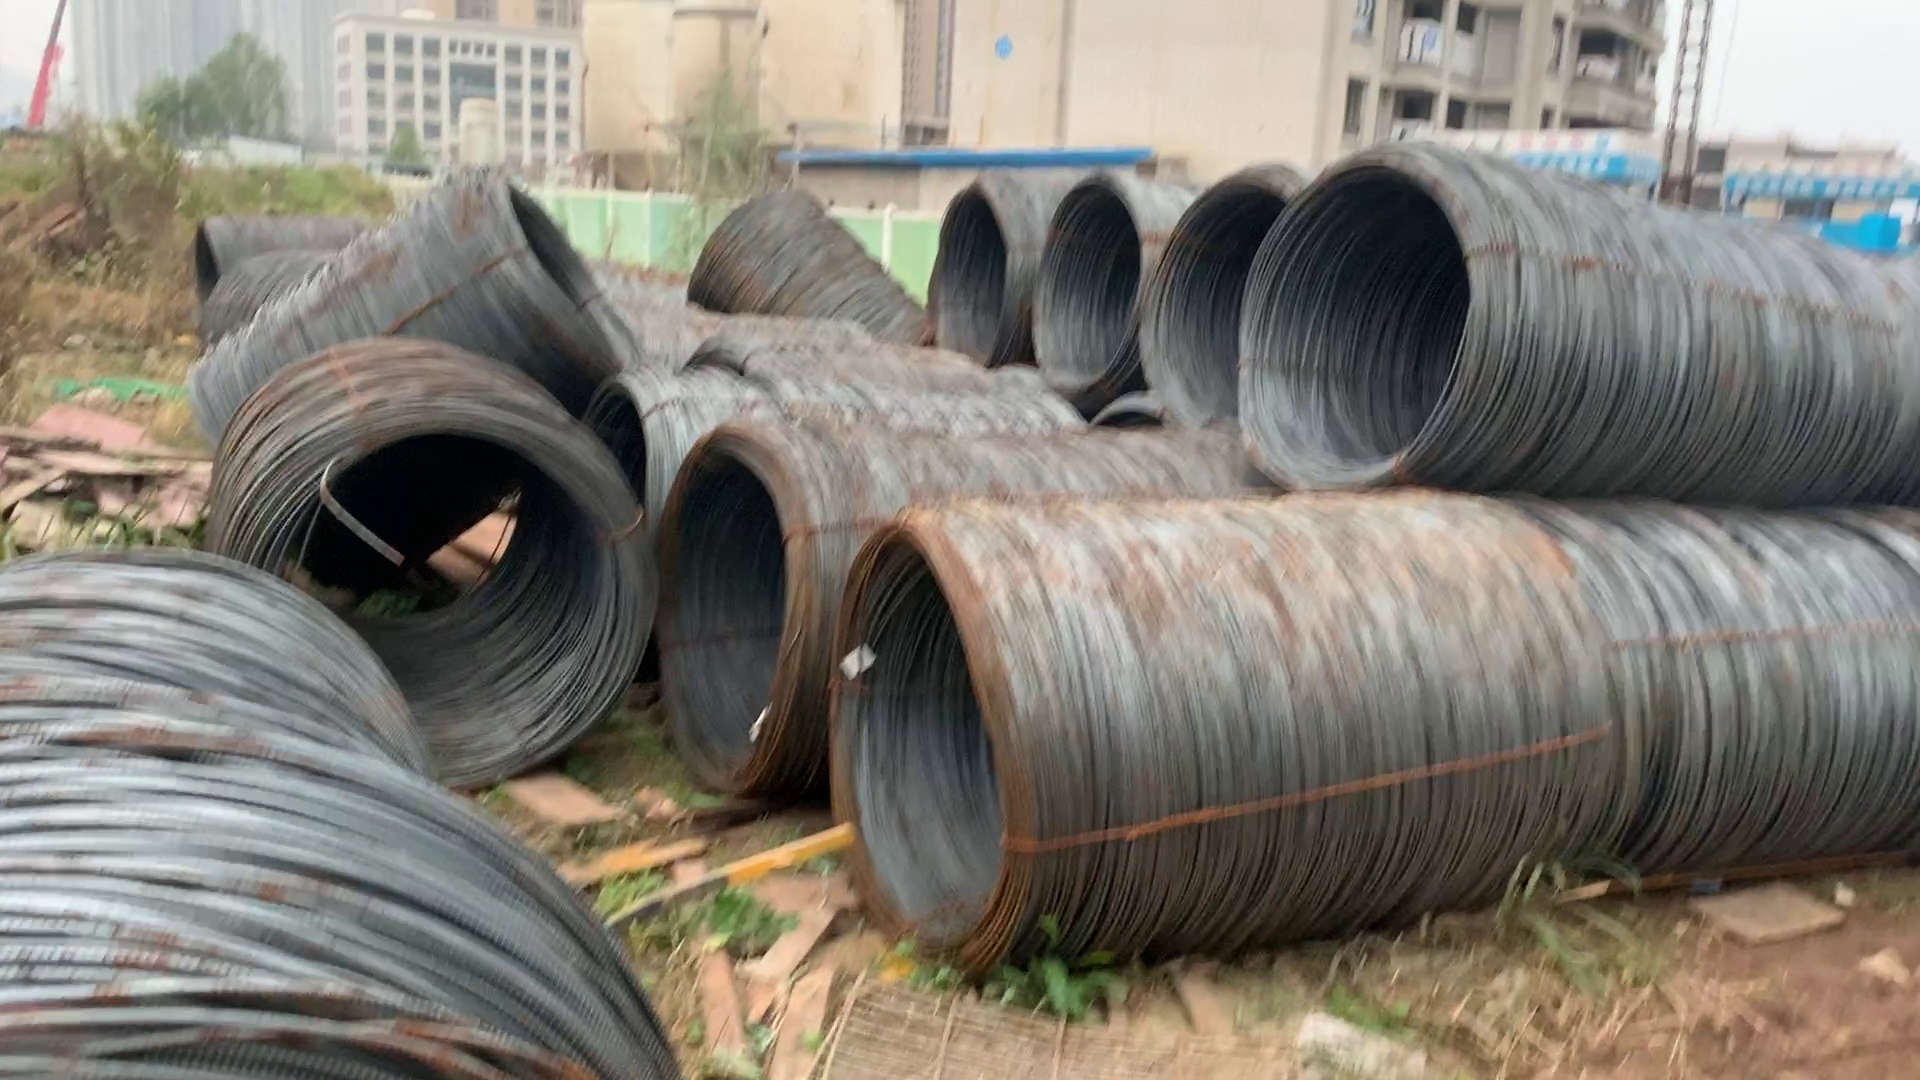coil: (227, 393, 640, 791), (835, 521, 1033, 985), (1238, 171, 1490, 491), (649, 427, 822, 791), (465, 160, 657, 400), (1153, 174, 1288, 443), (1040, 171, 1149, 392), (920, 174, 1010, 368), (177, 218, 257, 343)
